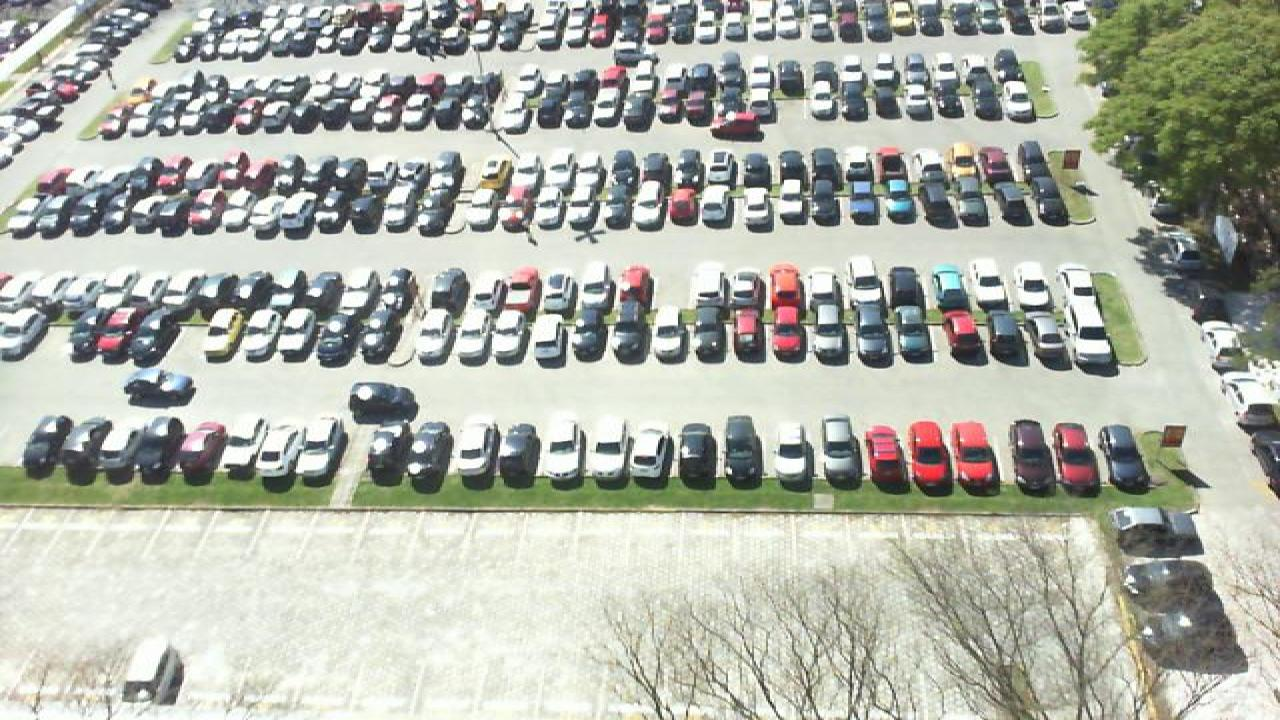Car: (420, 266, 470, 364), (1062, 263, 1110, 360), (458, 267, 506, 362), (374, 269, 418, 363), (1112, 505, 1194, 555), (688, 265, 728, 359), (948, 420, 1000, 490), (1100, 423, 1152, 491), (618, 263, 654, 361), (768, 263, 804, 359), (584, 267, 620, 362), (20, 415, 72, 479), (368, 417, 416, 486), (220, 420, 272, 483), (1008, 419, 1054, 490), (1052, 419, 1098, 490), (730, 268, 766, 356), (176, 422, 226, 485), (862, 424, 912, 487), (822, 416, 866, 486), (722, 415, 764, 488), (410, 424, 456, 489), (138, 416, 182, 483), (262, 419, 308, 483), (908, 421, 952, 487), (302, 419, 346, 483), (674, 424, 718, 488), (122, 367, 194, 405), (458, 423, 500, 487), (100, 420, 144, 481), (542, 420, 582, 487), (586, 420, 626, 487), (350, 380, 420, 418), (62, 420, 106, 480), (630, 426, 672, 487), (500, 424, 540, 488), (276, 307, 322, 362), (238, 306, 284, 361), (312, 308, 358, 362), (126, 308, 172, 362), (774, 423, 812, 487), (978, 310, 1026, 359), (1022, 310, 1070, 358), (1012, 263, 1056, 314), (202, 309, 246, 360), (90, 307, 132, 360), (0, 307, 44, 357), (972, 258, 1014, 310), (52, 307, 94, 359), (930, 263, 972, 314), (810, 309, 852, 360), (500, 265, 542, 315), (846, 255, 882, 312), (888, 263, 928, 314), (938, 312, 982, 358), (652, 307, 690, 359), (858, 309, 896, 360), (302, 269, 346, 313), (194, 268, 238, 312), (494, 314, 534, 362), (38, 270, 86, 310), (898, 310, 936, 360), (230, 268, 272, 312), (266, 270, 308, 313), (808, 264, 844, 313), (544, 265, 580, 314), (534, 314, 570, 363), (156, 268, 198, 310), (340, 270, 380, 314), (82, 269, 122, 310), (0, 272, 46, 306), (118, 272, 158, 310)
